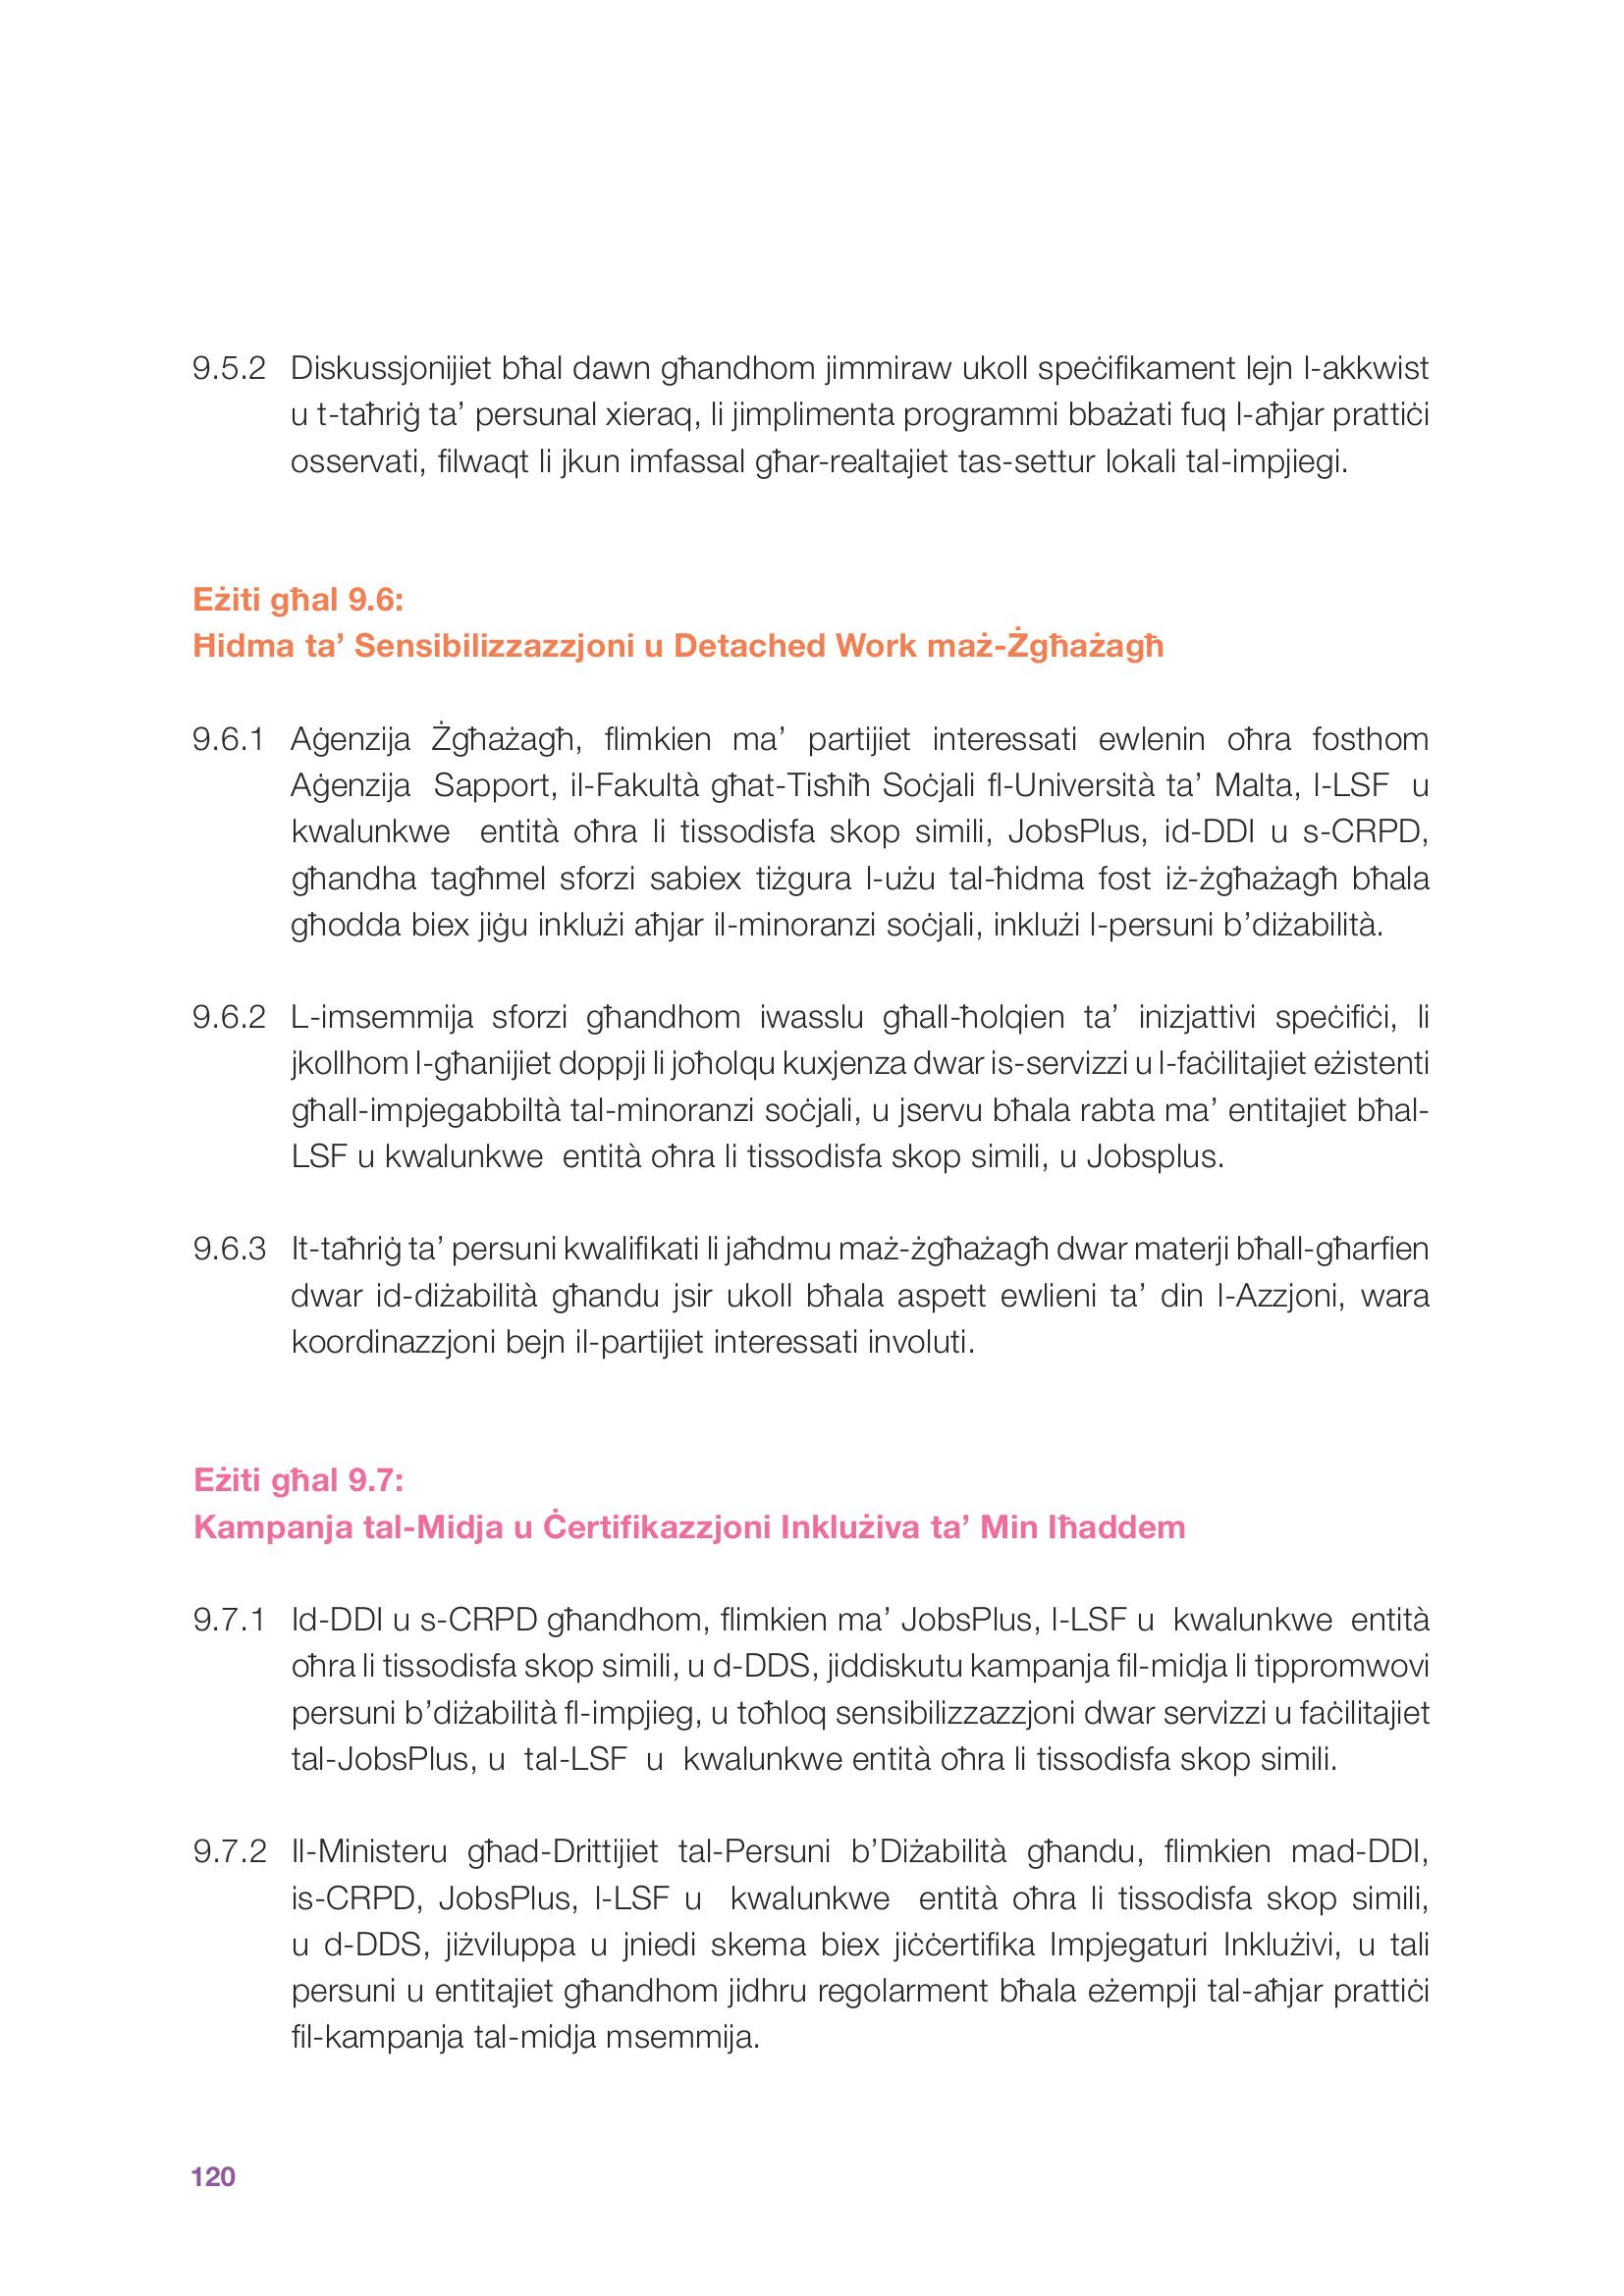text: (160, 320, 1459, 2073)
